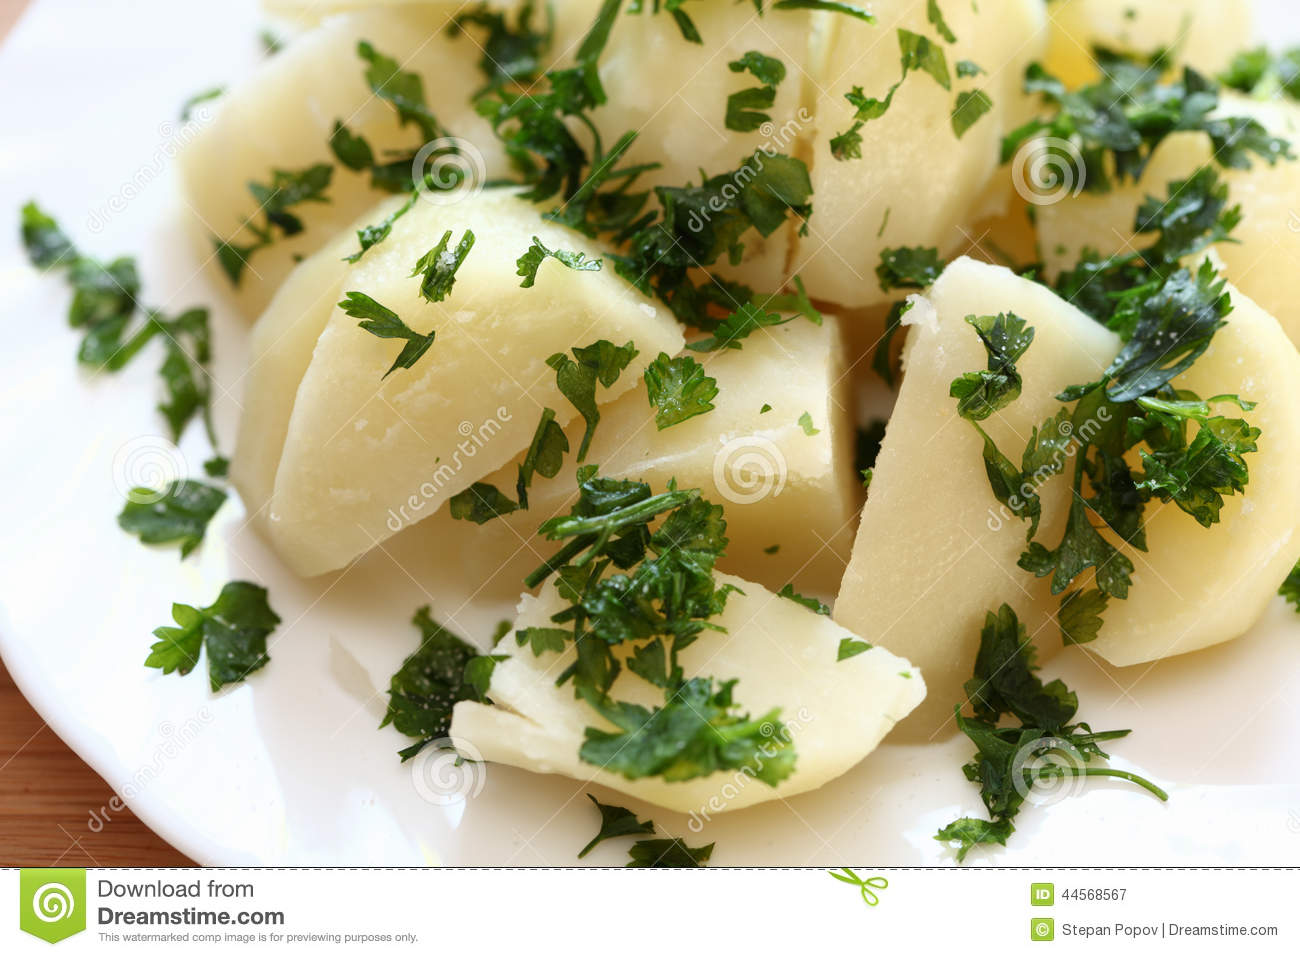boiled potatoes: (250, 1, 1296, 778)
